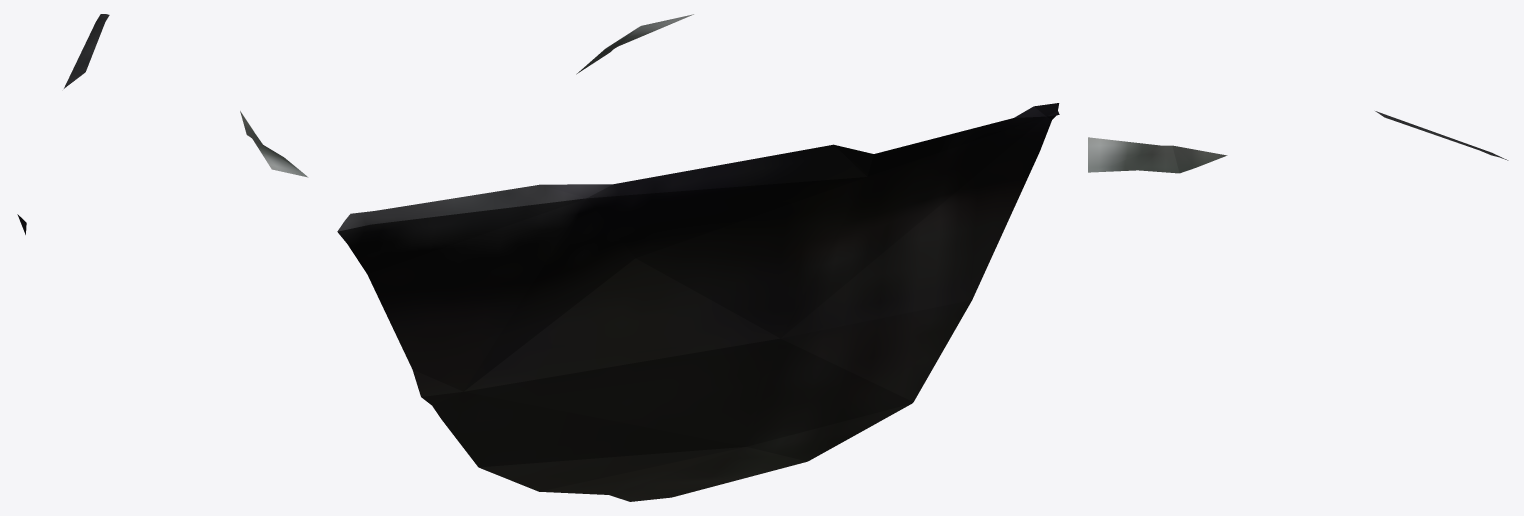
3 renders of one model, left to right at view 1: azimuth 30°, elevation 25°; view 2: azimuth 150°, elevation 25°; view 3: azimuth 270°, elevation 25°, orthographic. The views are drawn at different scales.
Bounding box in the file's own units: 0.0789 × 0.09 × 0.0993.
Materials: 1 (1 with a texture image).
